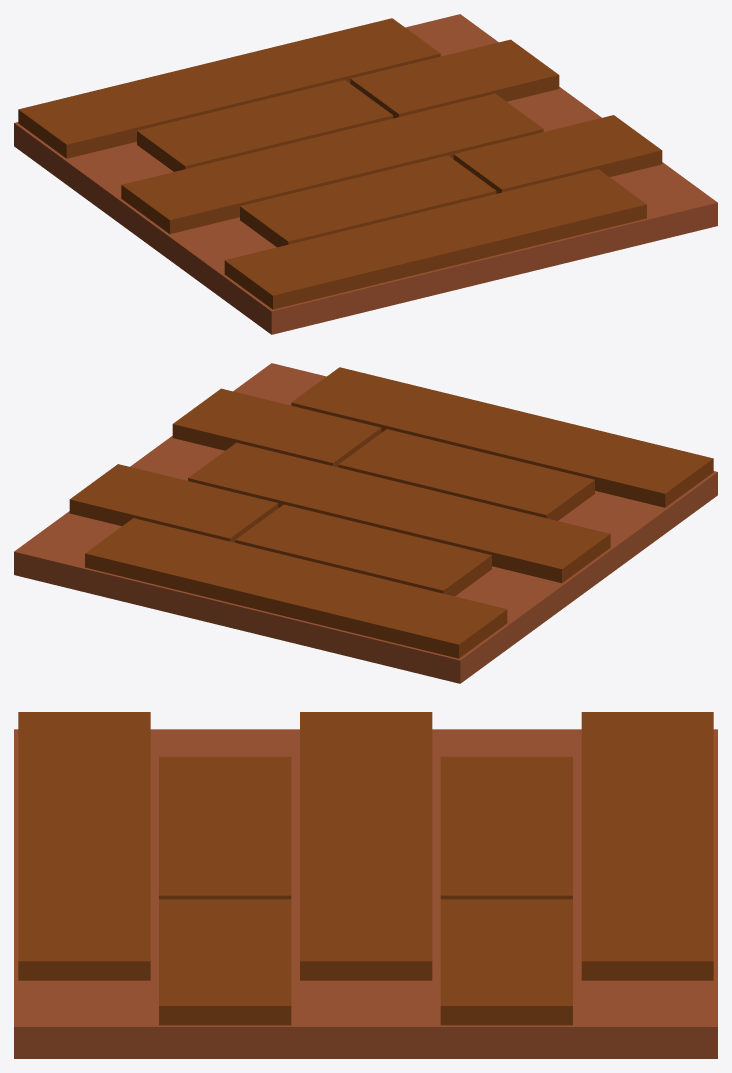
File: Prop_Tile_Terrain_Dungeon_Timber_Panel_01.FBX
The picture shows the model from 3 angles, top to bottom: view 1: azimuth 30°, elevation 25°; view 2: azimuth 150°, elevation 25°; view 3: azimuth 270°, elevation 25°; orthographic projection. The views are drawn at different scales.
Parts seen in each view (by area): view 1: Prop_Tile_Terrain_Dungeon_Timber_Panel_01; view 2: Prop_Tile_Terrain_Dungeon_Timber_Panel_01; view 3: Prop_Tile_Terrain_Dungeon_Timber_Panel_01.
Boxes of the visible parts, box(x1,y1,x2,y2) form: Prop_Tile_Terrain_Dungeon_Timber_Panel_01: box(14, 14, 717, 334); Prop_Tile_Terrain_Dungeon_Timber_Panel_01: box(14, 363, 717, 683); Prop_Tile_Terrain_Dungeon_Timber_Panel_01: box(14, 712, 717, 1058).
Bounding box in the file's own units: 3000 × 240 × 3000.
